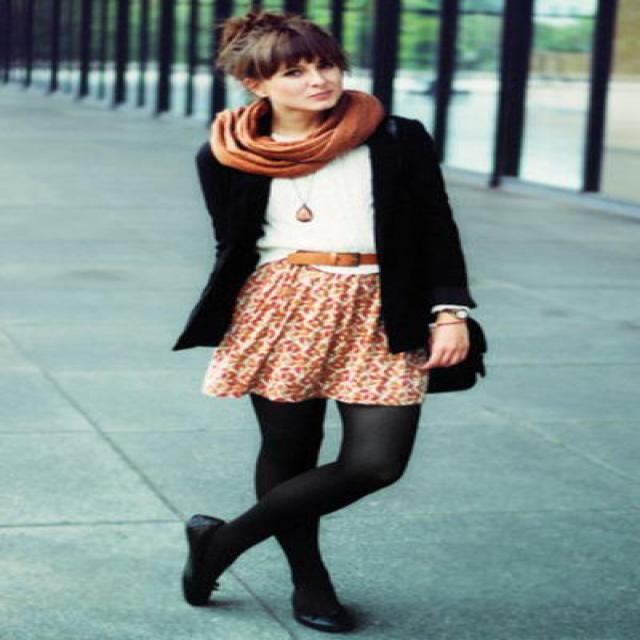bag: (408, 305, 467, 370)
jacket: (173, 115, 475, 350)
shirt: (259, 148, 373, 294)
shoe: (182, 576, 364, 633)
skirt: (202, 269, 430, 406)
